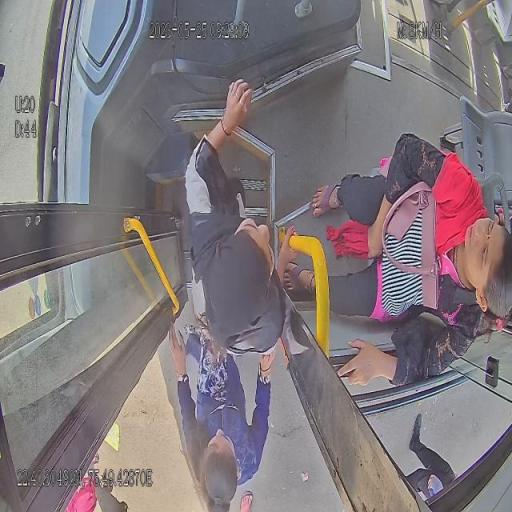persona: (278, 132, 511, 388), (183, 78, 300, 358), (168, 312, 277, 510)
